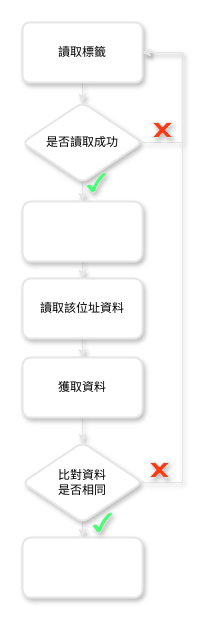
Image size: 214x622. Some labels were removed from this diagram. Here are the shapes that lost their labels. From the top down, the centre of each, then its label:
At point 83,232: "選擇資料位址".
At point 83,568: "馬達運作".
